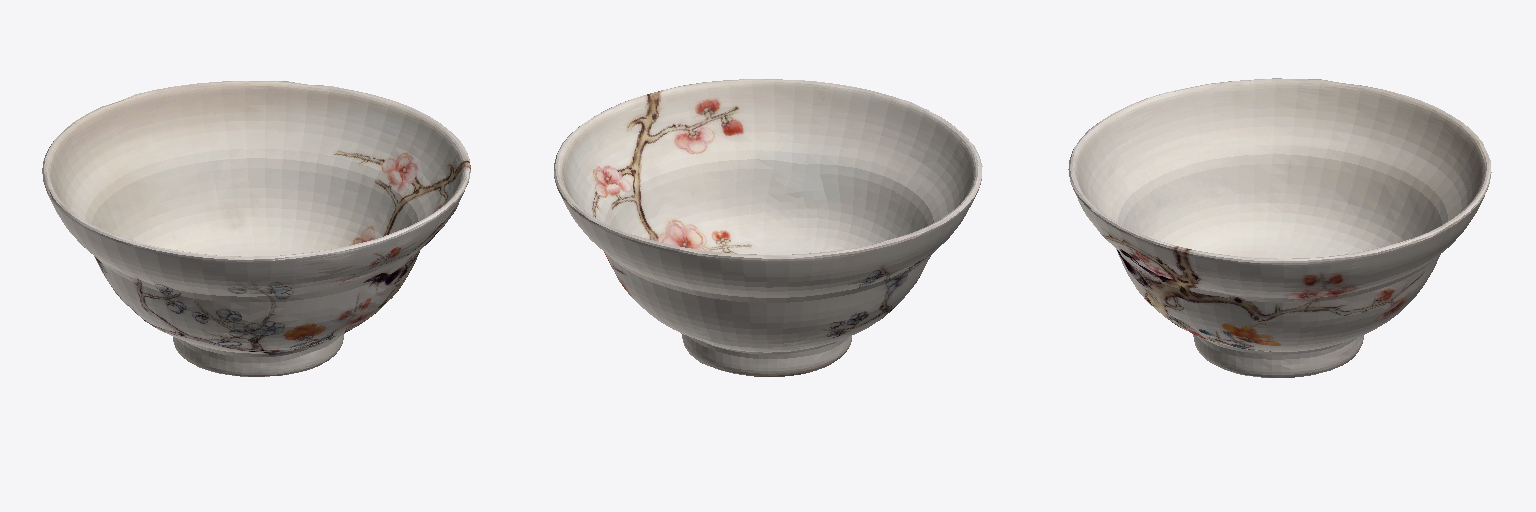
3 views of the same model, side by side, from view 1: azimuth 30°, elevation 25°; view 2: azimuth 150°, elevation 25°; view 3: azimuth 270°, elevation 25° (orthographic).
Parts seen in each view (by area): view 1: objSZB_ZB_134; view 2: objSZB_ZB_134; view 3: objSZB_ZB_134.
Boxes of the visible parts, x1,y1,x2,y2 form: objSZB_ZB_134: [42, 81, 470, 376]; objSZB_ZB_134: [554, 79, 982, 376]; objSZB_ZB_134: [1068, 78, 1491, 377].
Bounding box in the file's own units: 107 × 49 × 105.
1 materials, 1 textured.